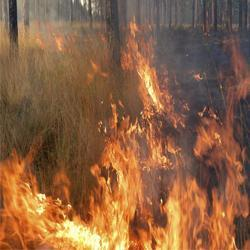fire: (38, 196, 131, 248), (166, 184, 231, 241), (0, 163, 34, 248), (103, 143, 138, 196)
